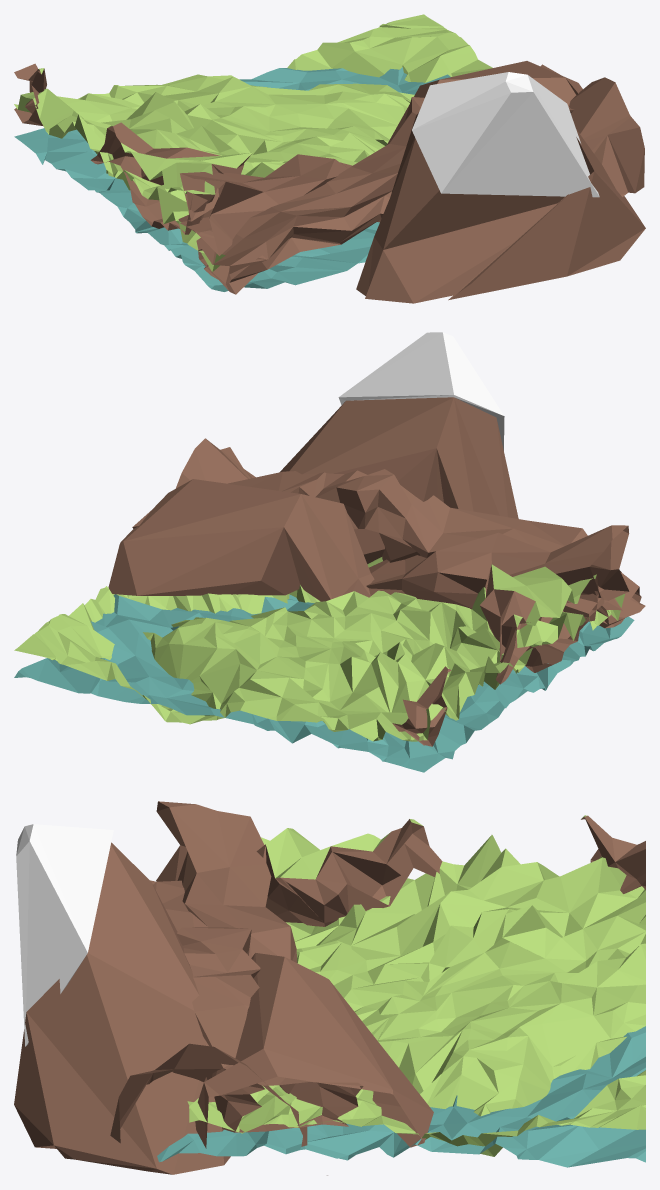
The model's file is RG_Terrain-Mesh-11.fbx.
The picture shows the model from 3 angles, top to bottom: view 1: azimuth 30°, elevation 25°; view 2: azimuth 150°, elevation 25°; view 3: azimuth 270°, elevation 25°; orthographic projection. The views are drawn at different scales.
Parts seen in each view (by area): view 1: RG_Terrain-Mesh-11; view 2: RG_Terrain-Mesh-11; view 3: RG_Terrain-Mesh-11.
Boxes of the visible parts, x1,y1,x2,y2 form: RG_Terrain-Mesh-11: [14, 14, 645, 303]; RG_Terrain-Mesh-11: [14, 332, 645, 772]; RG_Terrain-Mesh-11: [14, 801, 645, 1175].
Bounding box in the file's own units: 156 × 78.69 × 175.
